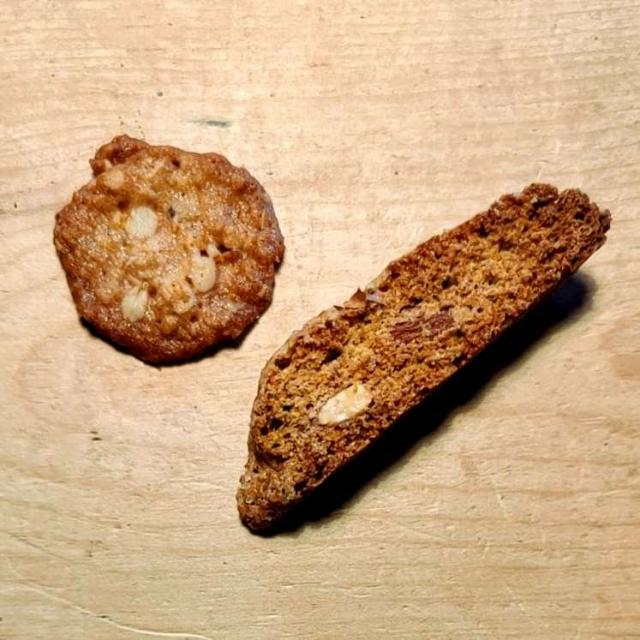biscuits: (63, 157, 271, 362)
